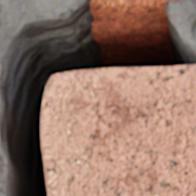brick: (43, 65, 195, 195), (96, 0, 183, 6)
crack: (0, 0, 195, 195)
